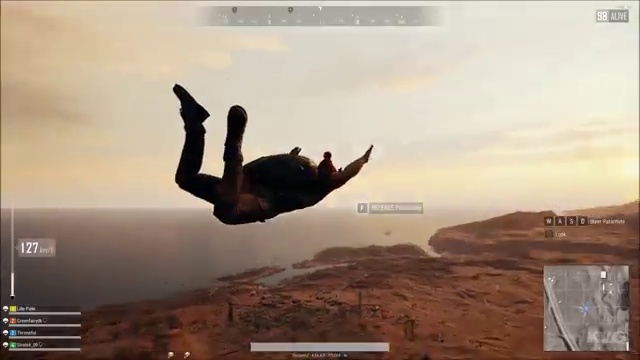Player: (137, 78, 353, 234)
